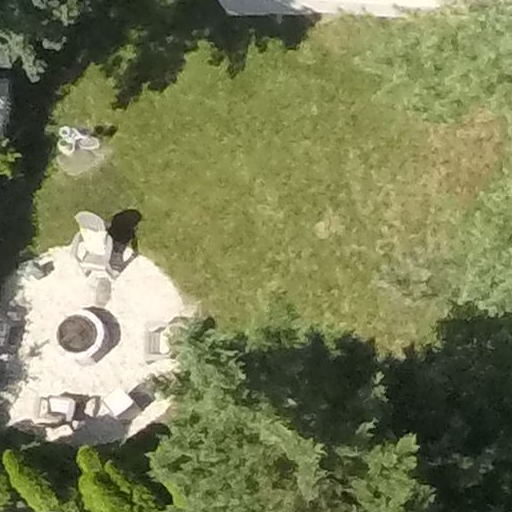chair: (54, 206, 127, 288), (27, 377, 83, 439)
container: (56, 138, 74, 155), (58, 123, 74, 139)
